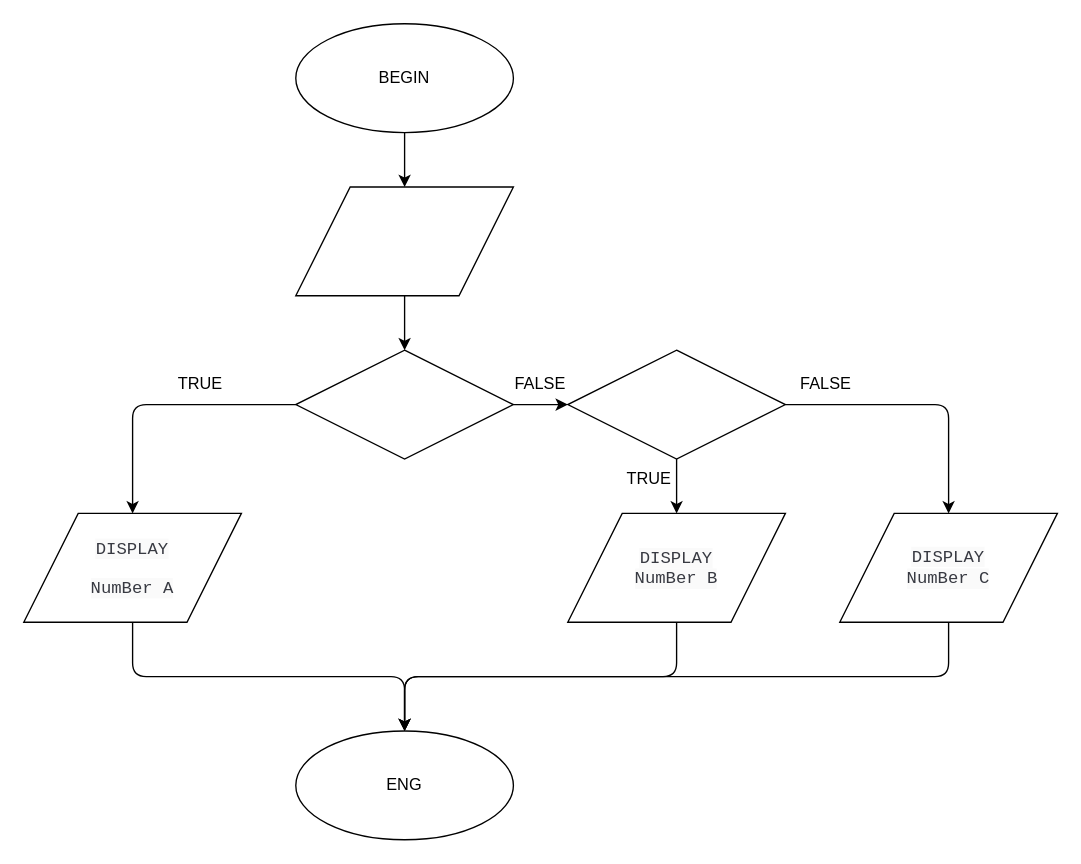
Some shapes in this 1081 by 864 pixel diagram are drawn without their labels. The centre of each missing label's shape, as x and y in pixels:
"A > B & B > C" goes at point 403,404.
"B > C" goes at point 675,404.
"NumBerA NumBer B NumBer C" goes at point 403,241.
